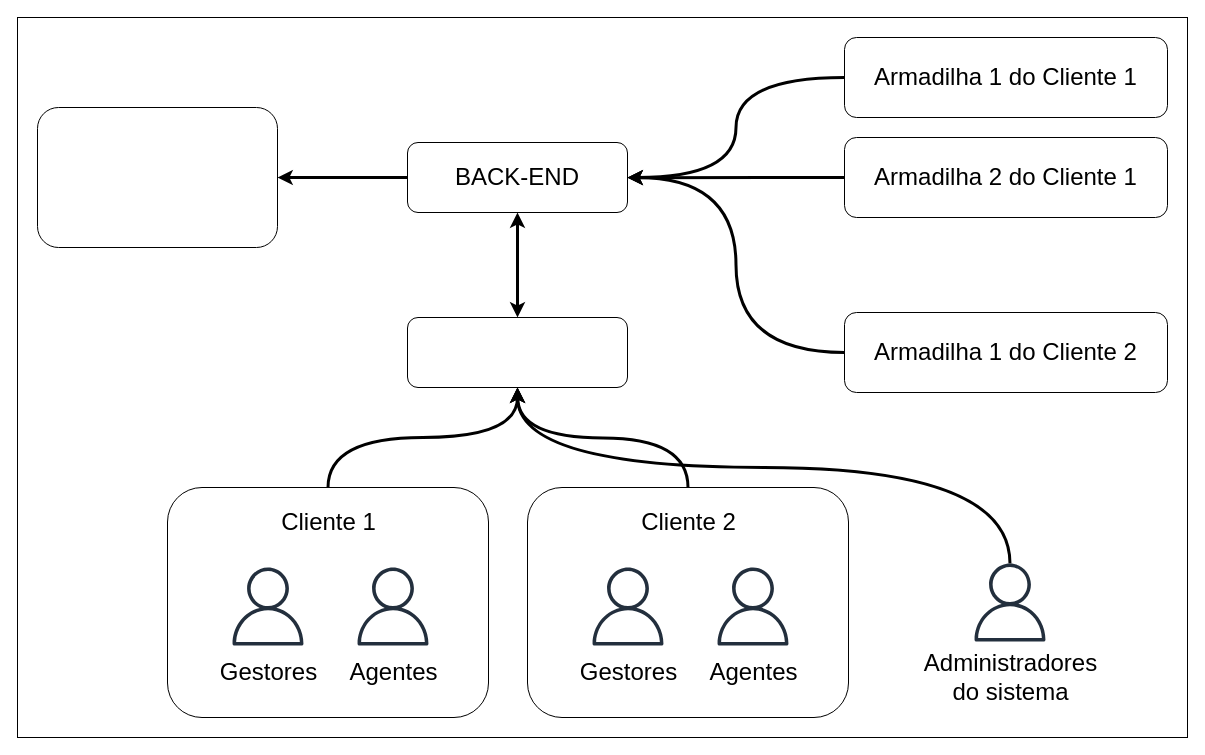
The diagram is 1205 pixels wide and 755 high, and some of its shapes have lost their labels. The centre of each missing label's shape, as x and y in pixels:
"BANCO DE DADOS" belongs at (x=157, y=177).
"FRONT-END" belongs at (x=517, y=352).
